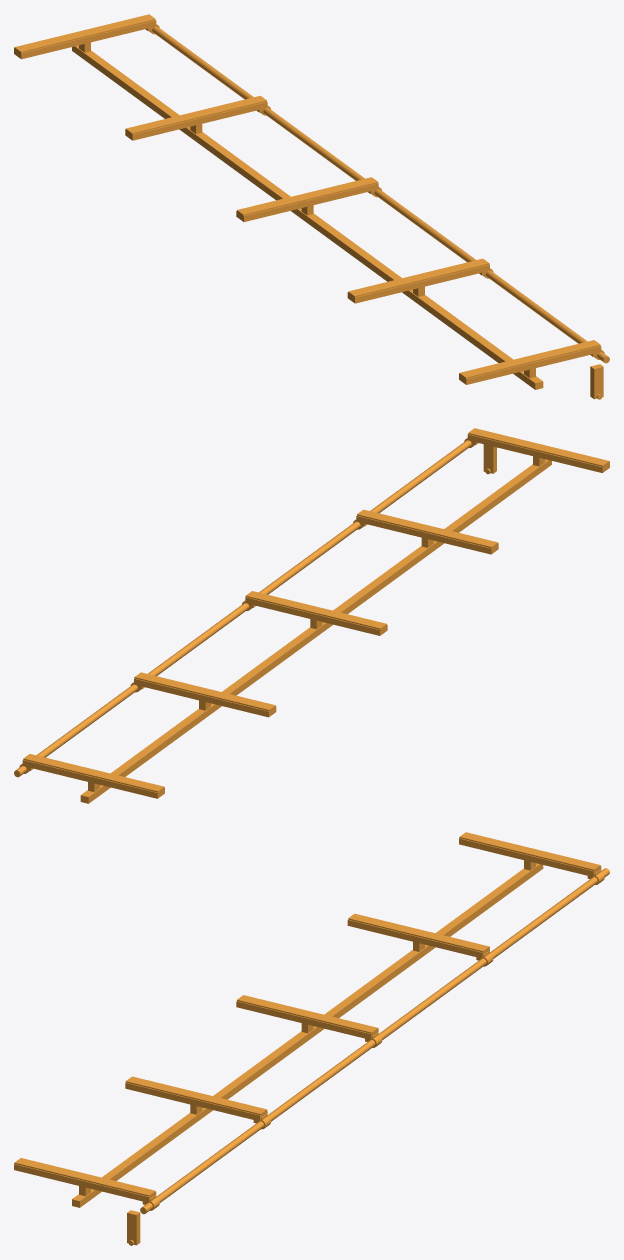
Rendered from bin_diverter_gate.glb.
3 renders of one model, top to bottom at view 1: azimuth 30°, elevation 25°; view 2: azimuth 150°, elevation 25°; view 3: azimuth 330°, elevation 25°, orthographic.
Visible parts, largest first — view 1: bin_diverter_gate; view 2: bin_diverter_gate; view 3: bin_diverter_gate.
Boxes of the visible parts, left/top/right/bottom form: bin_diverter_gate: left=14, top=14, right=609, bottom=399; bin_diverter_gate: left=14, top=428, right=609, bottom=803; bin_diverter_gate: left=14, top=832, right=609, bottom=1245.
Bounding box in the file's own units: 0.868 × 0.275 × 5.03.
